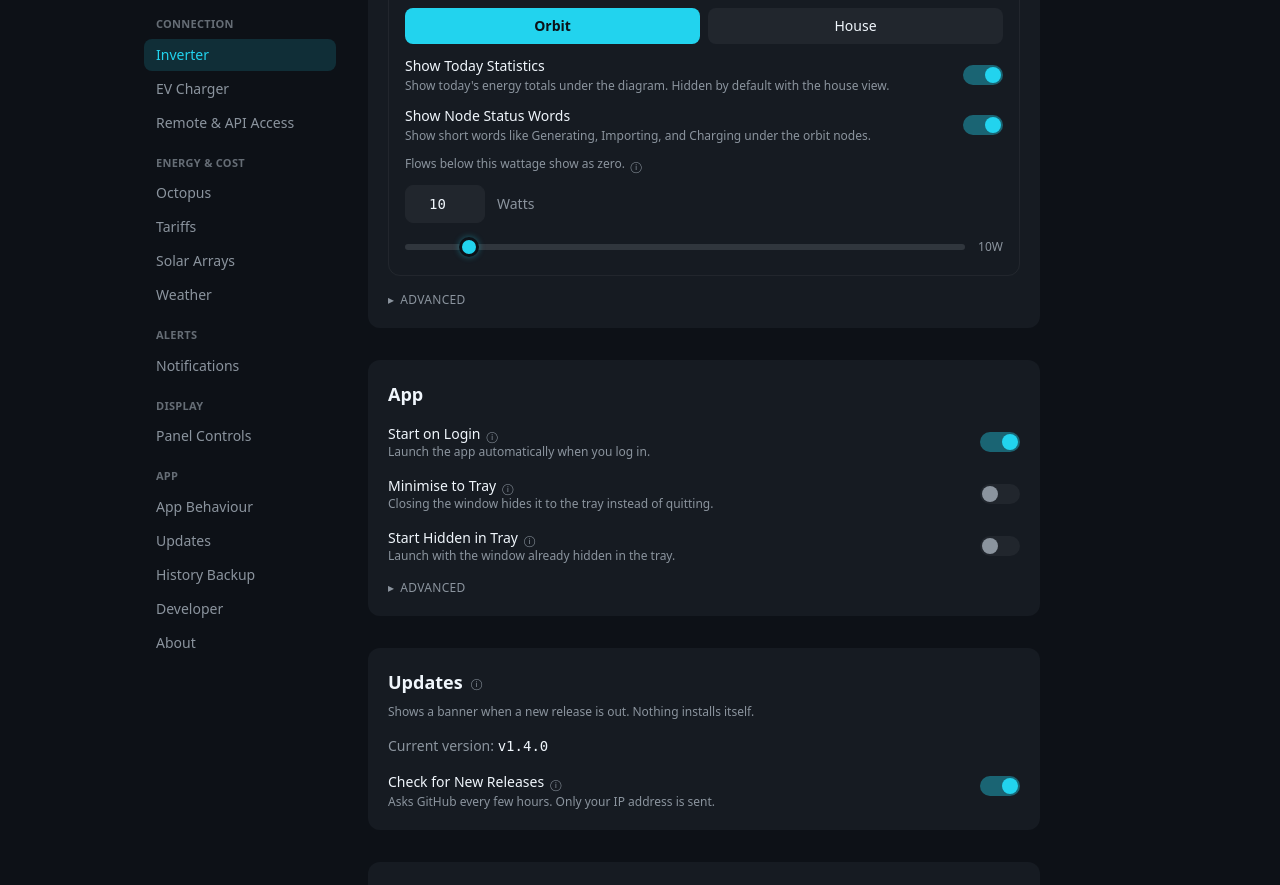
it: <SettingsPage/> — Start on Login (Tauri shell) › describes a failed disable as a disable
The width and height of the screenshot is (1280, 885).
(page scrolled)
Expected: the text "Start on Login" is shown, [388,424,480,443]
What coordinates should you click on to do the following:
click the switch named "Start on Login"
I would click on:
 (1000, 442)
Its box is [980,432,1020,452].
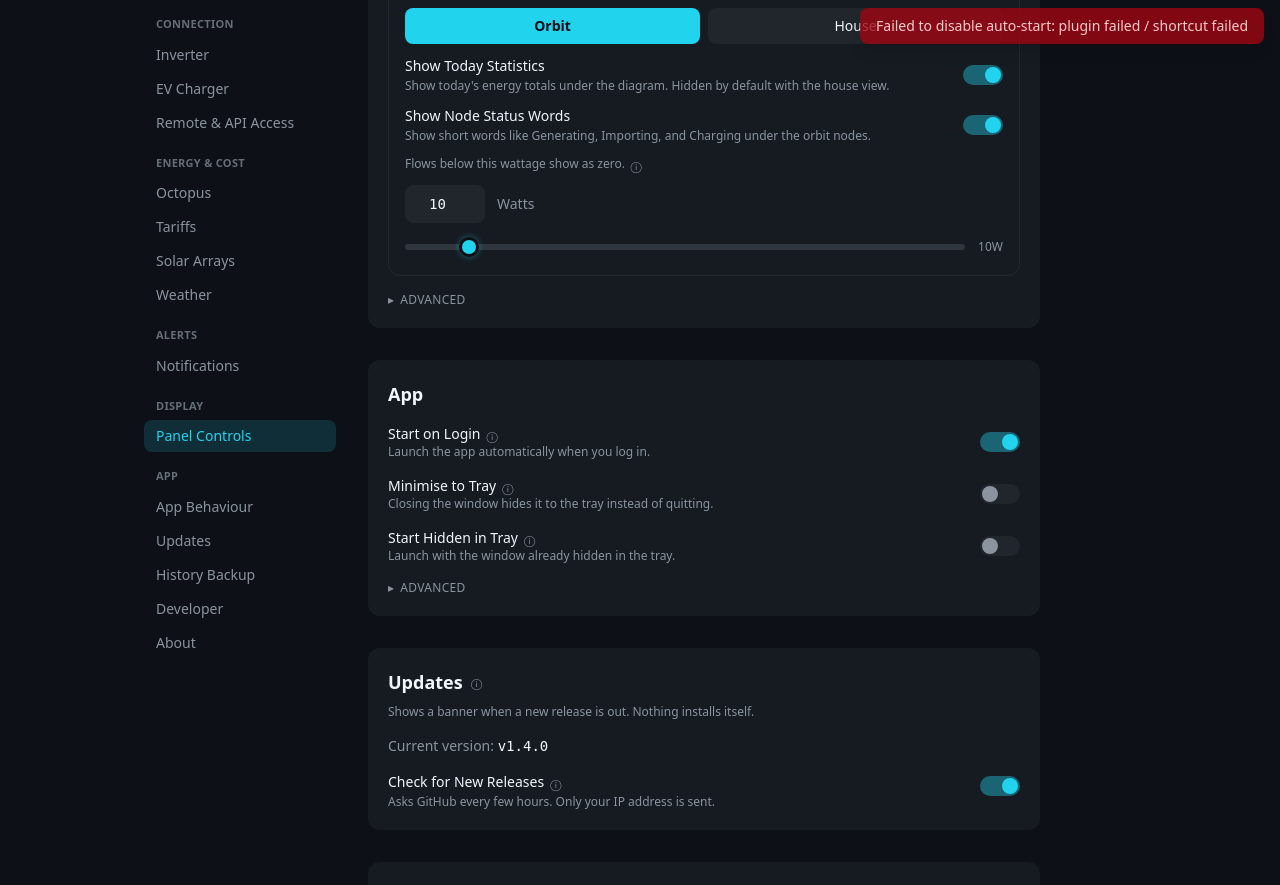
Expected: the text "Failed to disable auto-start: plugin failed / shortcut failed" is shown, [860,8,1264,44]
